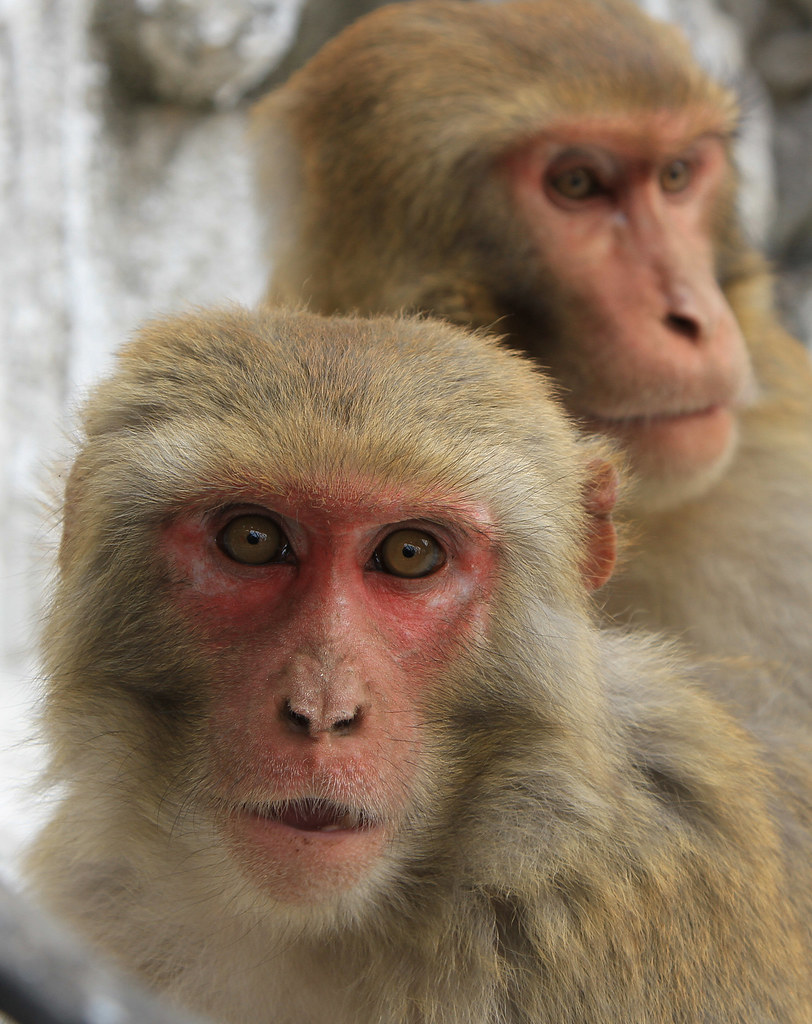monkey: (36, 295, 812, 1024), (212, 2, 768, 611)
